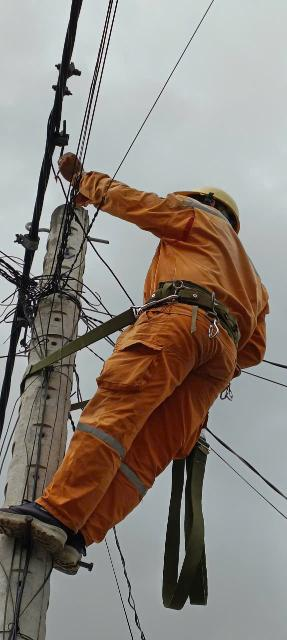gloves: (50, 144, 102, 190)
harness: (136, 278, 261, 362)
helmet: (155, 168, 258, 247)
shoes: (0, 468, 72, 552), (41, 520, 94, 577)
